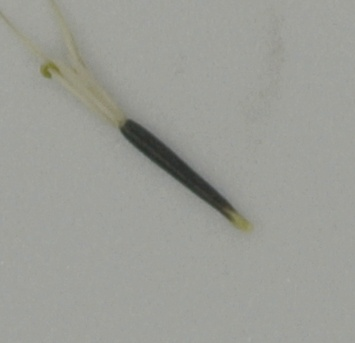เมล็ดดีเรียวยาว: (35, 26, 260, 241)
